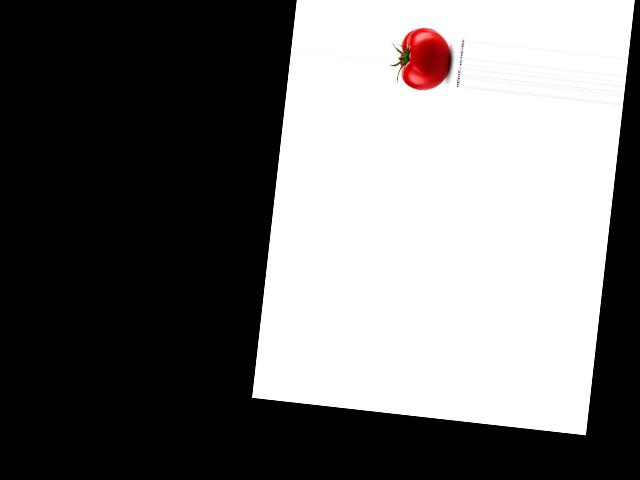tomato: (398, 25, 453, 93)
